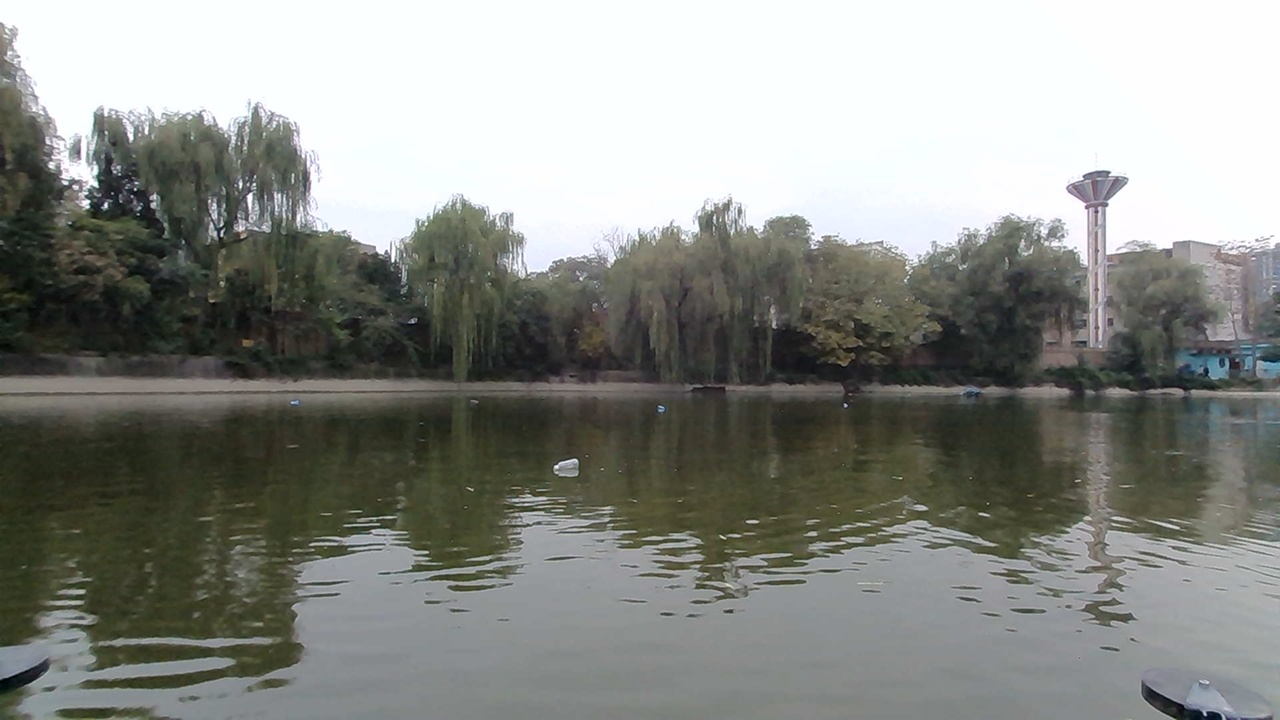bottle: (538, 451, 597, 480), (646, 400, 677, 418)
